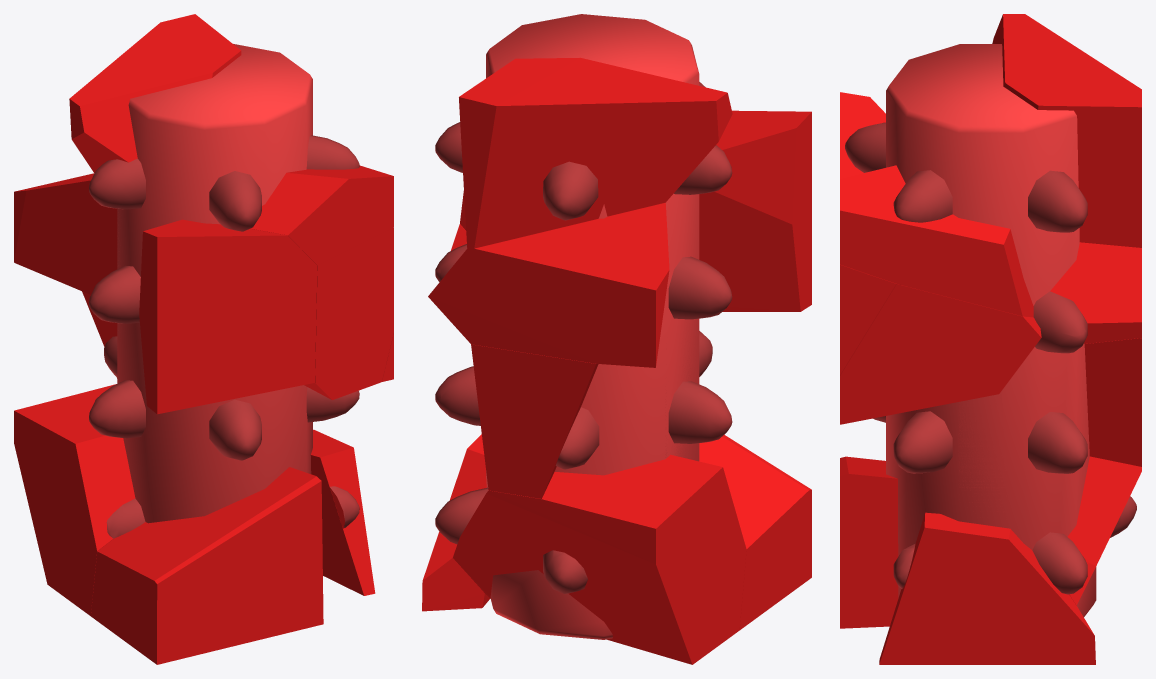
File: Cylinder25-cell-fracture.fbx
3 renders of one model, left to right at view 1: azimuth 30°, elevation 25°; view 2: azimuth 150°, elevation 25°; view 3: azimuth 270°, elevation 25°, orthographic. The views are drawn at different scales.
Parts seen in each view (by area): view 1: Cylinder-with-thorns_cell.024, Cylinder-with-thorns_cell.012, Cylinder-with-thorns_cell.003, Cylinder-with-thorns_cell.007, Cylinder-with-thorns_cell.006, Cylinder-with-thorns_cell.018, Cylinder-with-thorns_cell.011, Cylinder-with-thorns_cell.013, Cylinder-with-thorns_cell.009, Cylinder-with-thorns_cell.017, Cylinder-with-thorns_cell.023, Cylinder-with-thorns_cell.028 (+5 smaller); view 2: Cylinder-with-thorns_cell.003, Cylinder-with-thorns_cell.024, Cylinder-with-thorns_cell.011, Cylinder-with-thorns_cell.007, Cylinder-with-thorns_cell.016, Cylinder-with-thorns_cell.012, Cylinder-with-thorns_cell.031, Cylinder-with-thorns_cell.013, Cylinder-with-thorns_cell.009, Cylinder-with-thorns_cell.028, Cylinder-with-thorns_cell.019, Cylinder-with-thorns_cell.014 (+5 smaller); view 3: Cylinder-with-thorns_cell.003, Cylinder-with-thorns_cell.024, Cylinder-with-thorns_cell.013, Cylinder-with-thorns_cell.008, Cylinder-with-thorns_cell.018, Cylinder-with-thorns_cell.012, Cylinder-with-thorns_cell.016, Cylinder-with-thorns_cell.011, Cylinder-with-thorns_cell.006, Cylinder-with-thorns_cell.005, Cylinder-with-thorns_cell.014, Cylinder-with-thorns_cell.022 (+8 smaller).
Part boxes in pixels (x1=…): Cylinder-with-thorns_cell.024: x1=69, y1=14, x2=312, y2=523; Cylinder-with-thorns_cell.012: x1=91, y1=467, x2=323, y2=664; Cylinder-with-thorns_cell.003: x1=14, y1=44, x2=309, y2=616; Cylinder-with-thorns_cell.007: x1=139, y1=219, x2=317, y2=414; Cylinder-with-thorns_cell.006: x1=304, y1=227, x2=393, y2=399; Cylinder-with-thorns_cell.018: x1=250, y1=165, x2=393, y2=265; Cylinder-with-thorns_cell.011: x1=14, y1=173, x2=117, y2=294; Cylinder-with-thorns_cell.013: x1=310, y1=429, x2=375, y2=595; Cylinder-with-thorns_cell.009: x1=89, y1=380, x2=145, y2=438; Cylinder-with-thorns_cell.017: x1=209, y1=171, x2=261, y2=231; Cylinder-with-thorns_cell.023: x1=209, y1=399, x2=261, y2=460; Cylinder-with-thorns_cell.028: x1=89, y1=265, x2=140, y2=323; Cylinder-with-thorns_cell.003: x1=435, y1=14, x2=746, y2=664; Cylinder-with-thorns_cell.024: x1=459, y1=41, x2=732, y2=461; Cylinder-with-thorns_cell.011: x1=428, y1=202, x2=669, y2=367; Cylinder-with-thorns_cell.007: x1=699, y1=110, x2=811, y2=311; Cylinder-with-thorns_cell.016: x1=471, y1=344, x2=598, y2=498; Cylinder-with-thorns_cell.012: x1=699, y1=434, x2=811, y2=629; Cylinder-with-thorns_cell.031: x1=490, y1=570, x2=612, y2=639; Cylinder-with-thorns_cell.013: x1=422, y1=434, x2=490, y2=611; Cylinder-with-thorns_cell.009: x1=668, y1=381, x2=732, y2=443; Cylinder-with-thorns_cell.028: x1=668, y1=256, x2=732, y2=319; Cylinder-with-thorns_cell.019: x1=543, y1=161, x2=598, y2=220; Cylinder-with-thorns_cell.014: x1=435, y1=366, x2=480, y2=425; Cylinder-with-thorns_cell.003: x1=889, y1=44, x2=1141, y2=616; Cylinder-with-thorns_cell.024: x1=886, y1=14, x2=1141, y2=598; Cylinder-with-thorns_cell.013: x1=879, y1=512, x2=1095, y2=664; Cylinder-with-thorns_cell.008: x1=840, y1=284, x2=1041, y2=424; Cylinder-with-thorns_cell.018: x1=840, y1=165, x2=1033, y2=316; Cylinder-with-thorns_cell.012: x1=840, y1=456, x2=898, y2=628; Cylinder-with-thorns_cell.016: x1=1084, y1=338, x2=1141, y2=466; Cylinder-with-thorns_cell.011: x1=1050, y1=242, x2=1141, y2=343; Cylinder-with-thorns_cell.006: x1=840, y1=264, x2=897, y2=375; Cylinder-with-thorns_cell.005: x1=1028, y1=170, x2=1087, y2=232; Cylinder-with-thorns_cell.014: x1=1028, y1=412, x2=1087, y2=473; Cylinder-with-thorns_cell.022: x1=893, y1=411, x2=952, y2=473.
Bounding box in the file's own units: 2.95 × 5.97 × 3.09.
